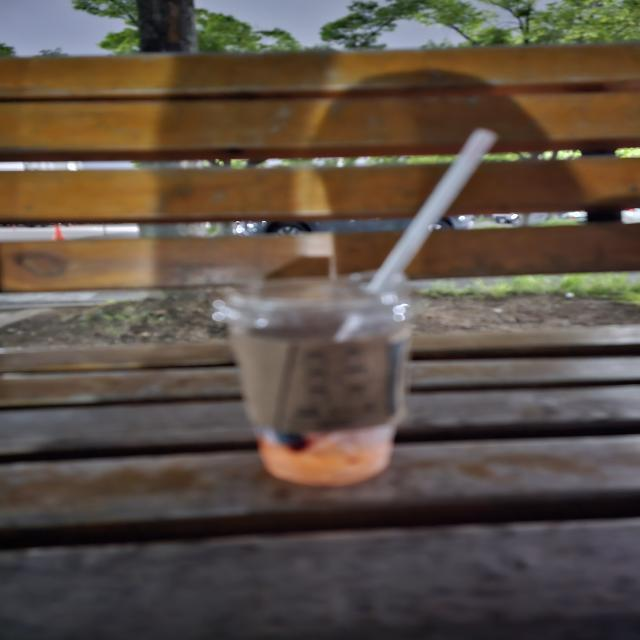cup: (199, 269, 430, 491)
